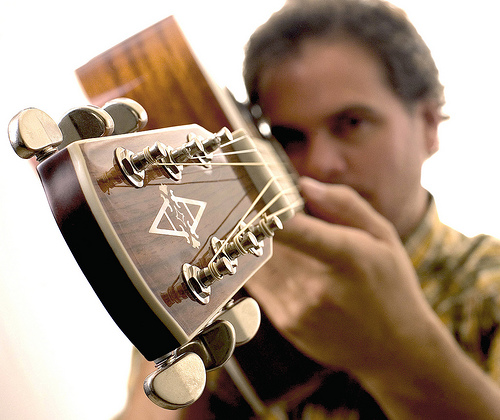guitar: (16, 13, 301, 404)
